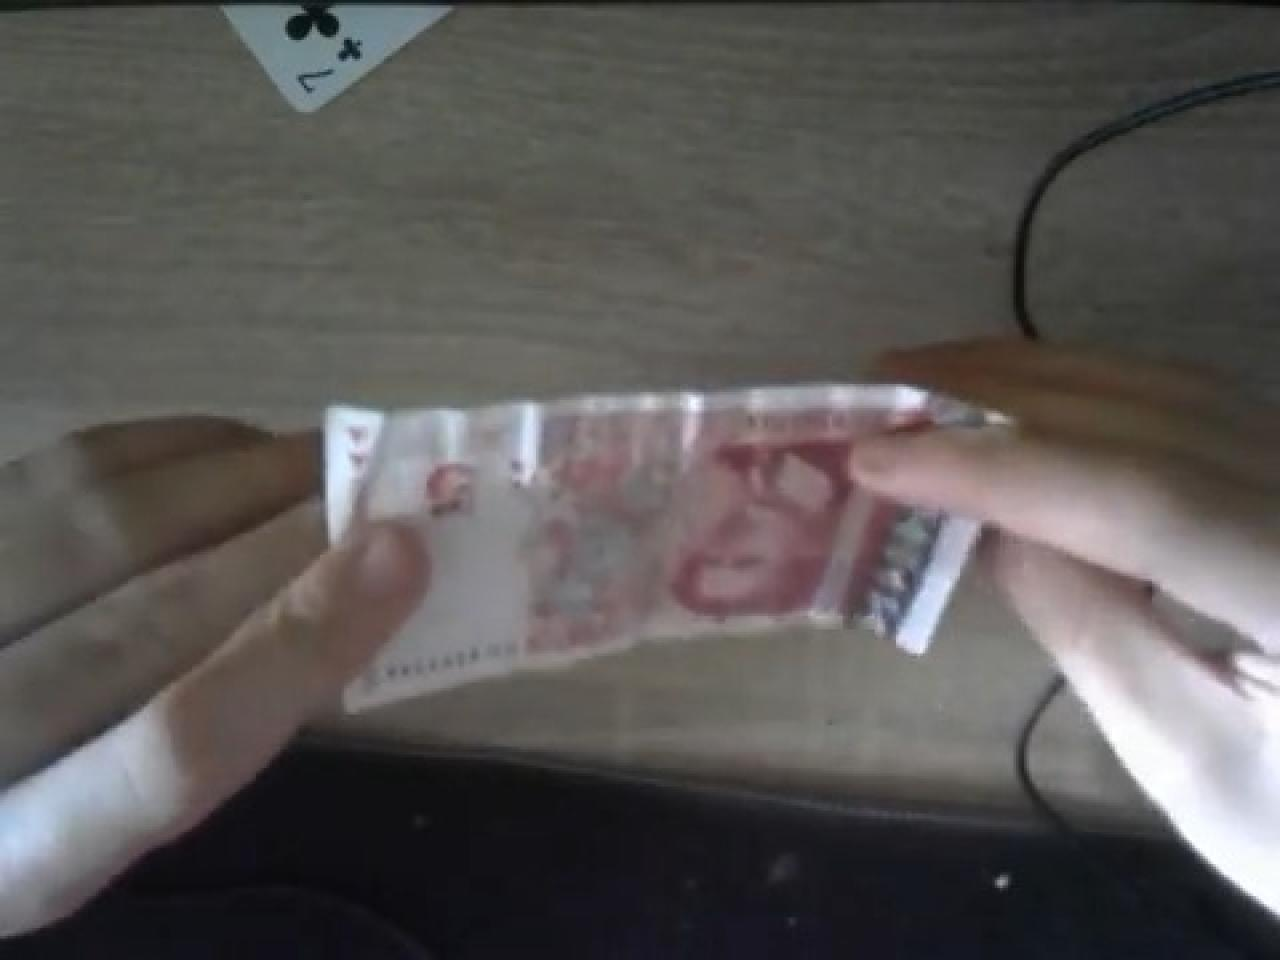5leva: (331, 389, 915, 667)
